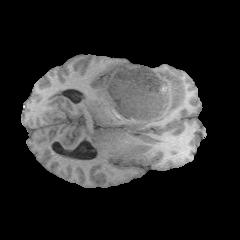glioma: (103, 66, 185, 123)
